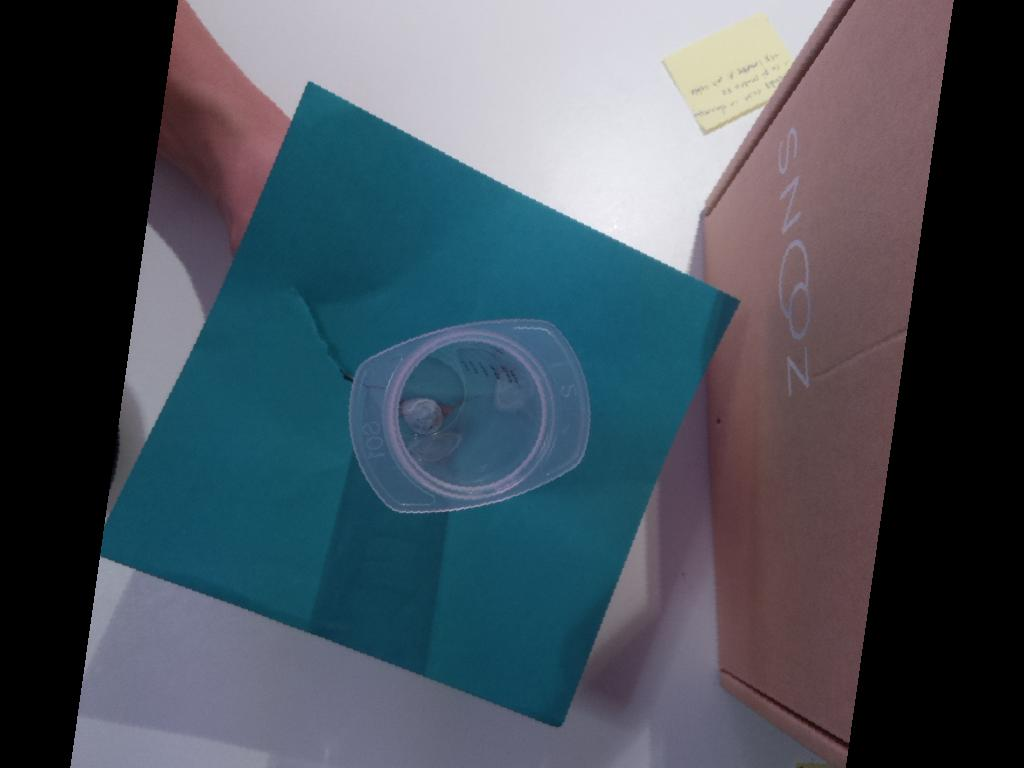clean: (347, 319, 592, 514)
